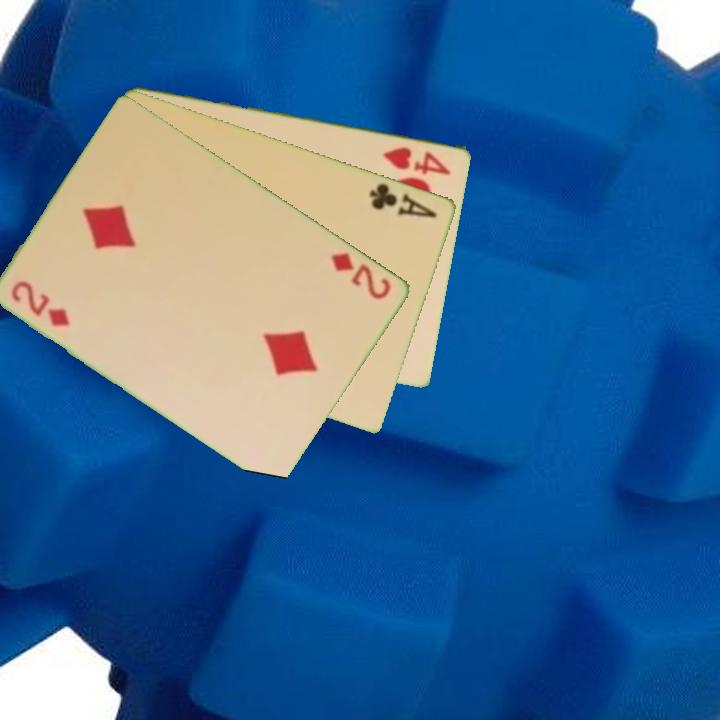2d: (328, 248, 395, 302), (8, 277, 74, 330)
4h: (380, 143, 454, 178)
Ac: (366, 179, 441, 221)
